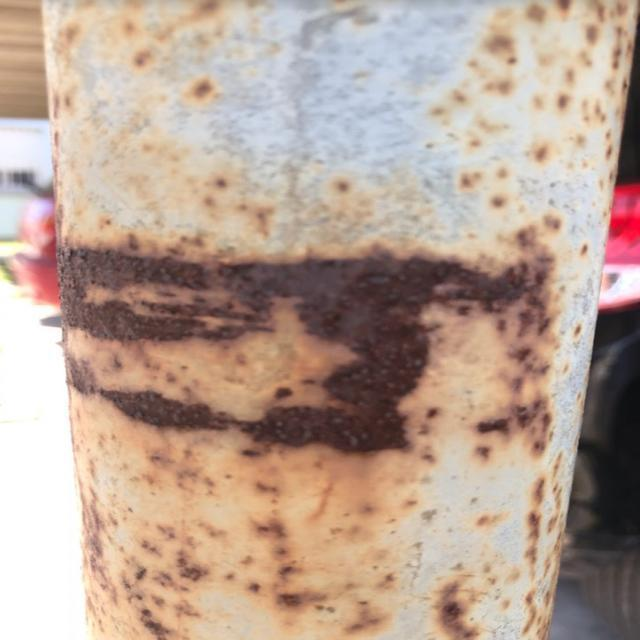Corrosion: (59, 214, 578, 467), (71, 430, 434, 640), (42, 0, 287, 243), (416, 0, 640, 215), (478, 448, 573, 640), (193, 172, 362, 236), (434, 578, 476, 640), (188, 79, 216, 98), (478, 515, 503, 526), (572, 323, 584, 340), (580, 245, 588, 256)
